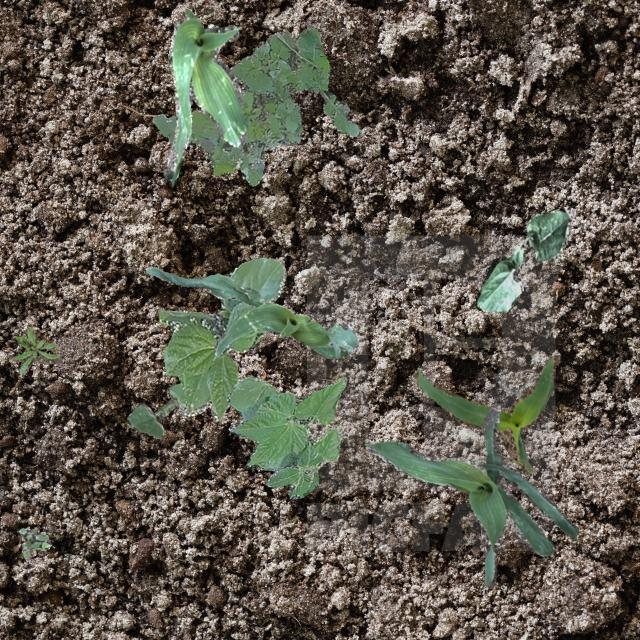crop: (364, 400, 576, 586), (158, 255, 284, 420), (144, 266, 360, 360), (414, 353, 558, 472), (162, 8, 248, 186), (227, 376, 346, 498), (474, 204, 574, 310), (126, 382, 186, 438)
weed: (152, 28, 360, 184), (12, 326, 60, 374), (18, 528, 50, 558)
